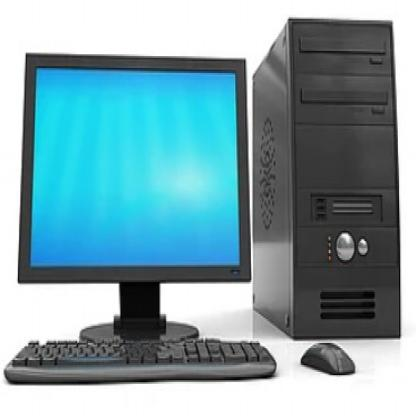DESKTOP: (2, 32, 416, 416)
